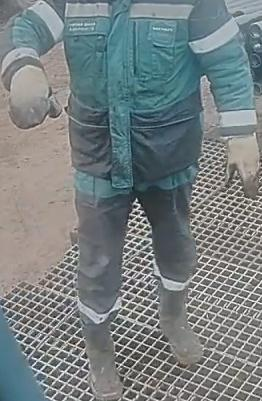gloves: (6, 57, 63, 131), (222, 132, 261, 199)
vest: (59, 0, 232, 192)
